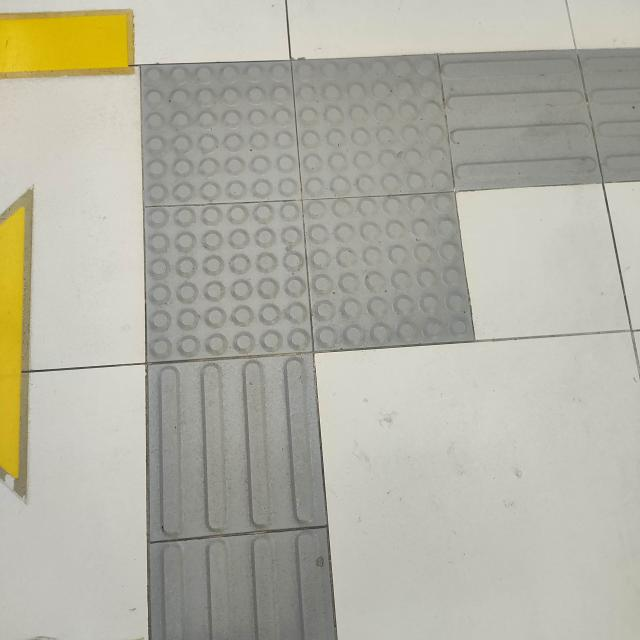kanan: (75, 26, 640, 443)
